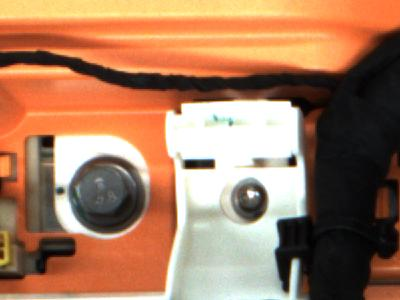nut_b: (66, 155, 146, 234)
screw_m: (222, 176, 275, 225)
